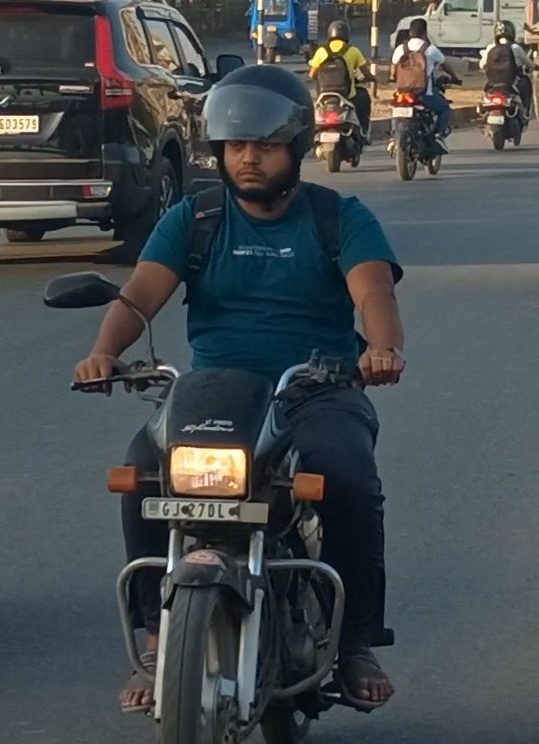BikeWithRider: (37, 55, 421, 744), (380, 14, 467, 187), (304, 15, 381, 178), (467, 15, 539, 155)
Helmet: (196, 55, 322, 213)
